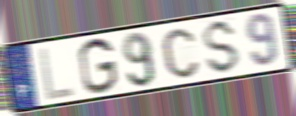9: (121, 30, 158, 90), (244, 11, 280, 70)
C: (160, 26, 201, 80)
G: (77, 36, 120, 96)
L: (37, 45, 77, 103)
S: (202, 18, 242, 77)
